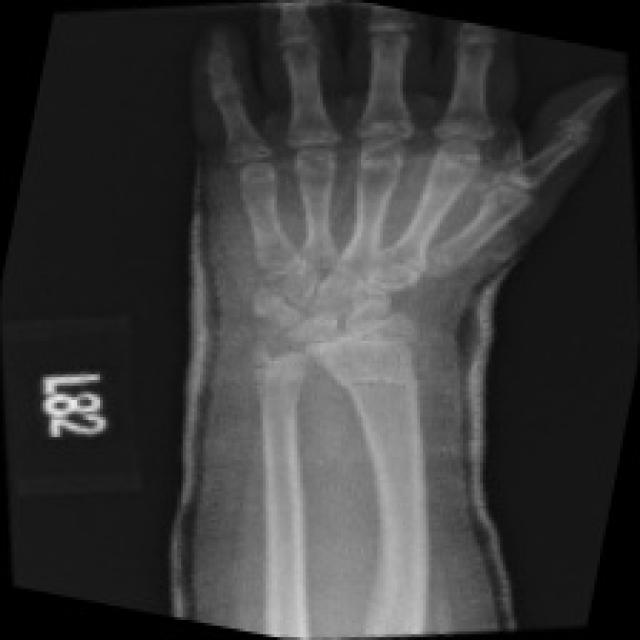fracture: (348, 358, 435, 412)
